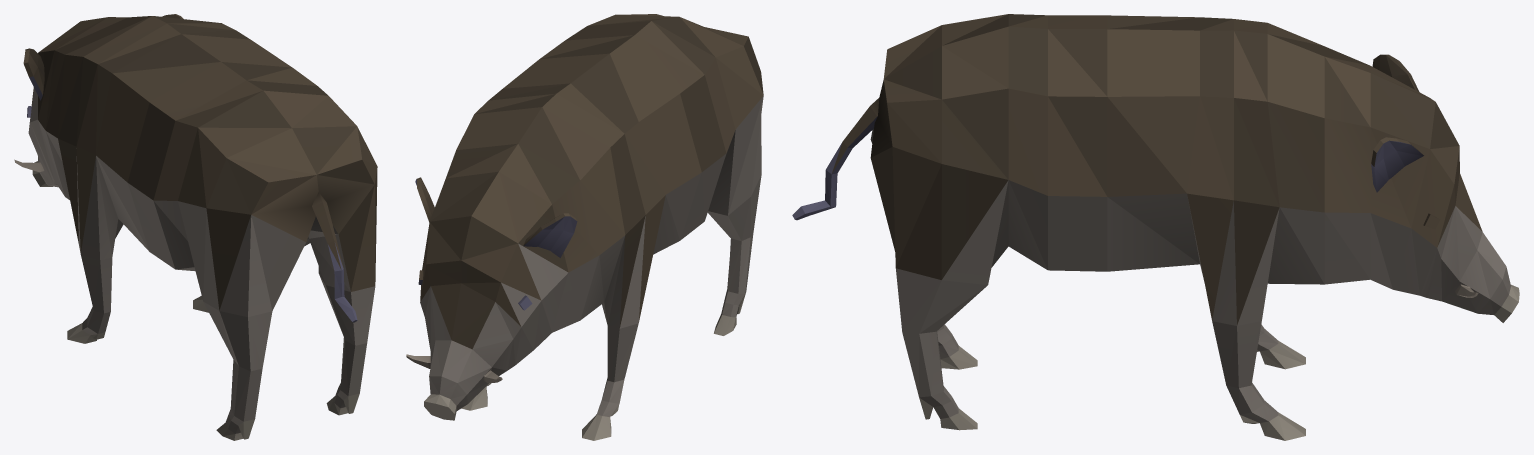
File: wurzelkeiler.glb
3 views of the same model, side by side, from view 1: azimuth 30°, elevation 25°; view 2: azimuth 150°, elevation 25°; view 3: azimuth 270°, elevation 25° (orthographic). The views are drawn at different scales.
Visible parts, largest first — view 1: Geo_Boar; view 2: Geo_Boar; view 3: Geo_Boar.
Boxes of the visible parts, x1,y1,x2,y2 form: Geo_Boar: (14,14,377,440); Geo_Boar: (406,14,763,440); Geo_Boar: (792,14,1519,440).
Size of the model in its own units: 0.6227 by 1.01 by 1.79.
